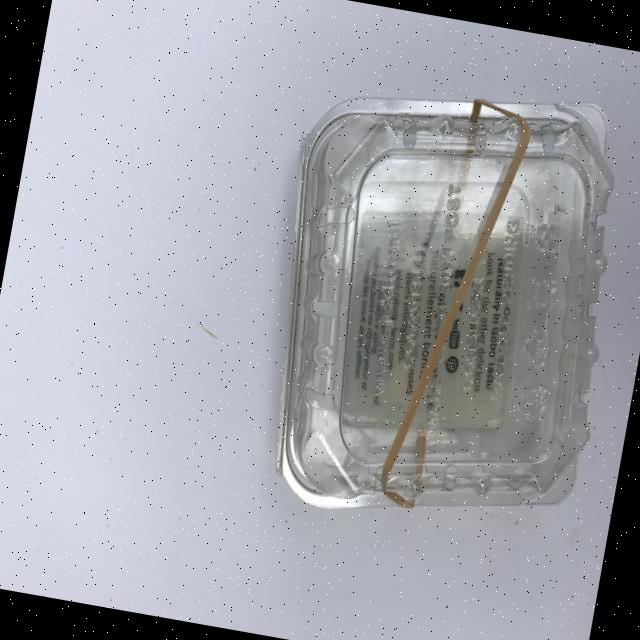plastic: (239, 56, 640, 550)
